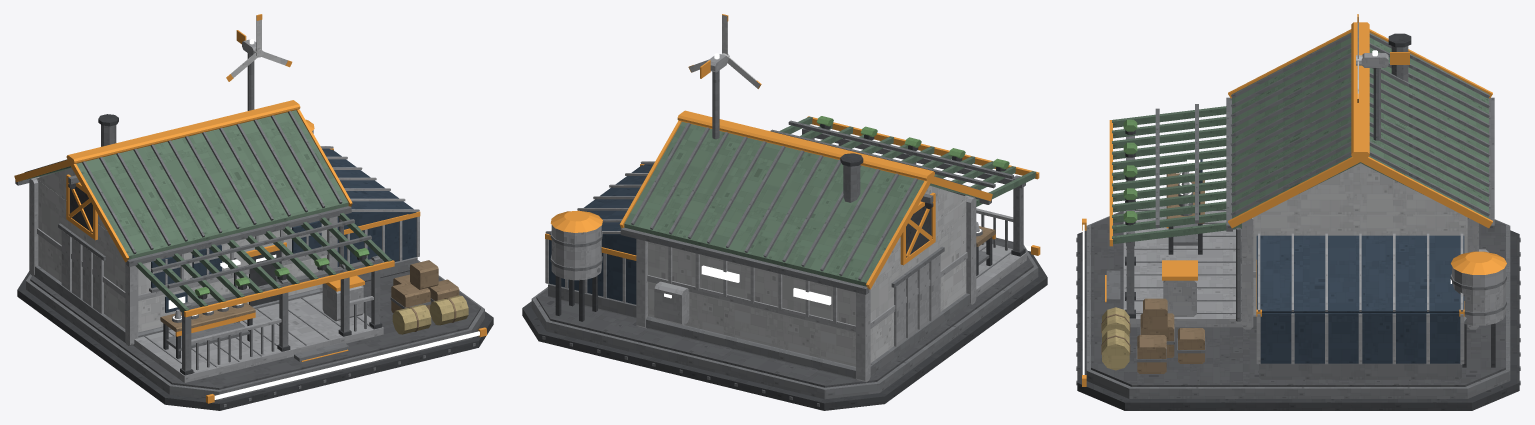
Rendered from farmhouse_lod0.glb.
3 views of the same model, side by side, from view 1: azimuth 30°, elevation 25°; view 2: azimuth 150°, elevation 25°; view 3: azimuth 270°, elevation 25° (orthographic). The views are drawn at different scales.
Visible parts, largest first — view 1: farmhouse_base_body, farmhouse_base_trim, farmhouse_bench_body, farmhouse_inlay_glow, farmhouse_rotor_body; view 2: farmhouse_base_body, farmhouse_base_trim, farmhouse_base_glow, farmhouse_bench_body, farmhouse_rotor_body; view 3: farmhouse_base_body, farmhouse_base_trim, farmhouse_bench_body, farmhouse_inlay_glow.
Part boxes in pixels (x1,y1,x2,y2): farmhouse_base_body: (15, 39, 493, 410); farmhouse_base_trim: (14, 30, 486, 403); farmhouse_bench_body: (160, 258, 255, 358); farmhouse_inlay_glow: (214, 331, 479, 399); farmhouse_rotor_body: (231, 20, 287, 77); farmhouse_base_body: (522, 54, 1047, 410); farmhouse_base_trim: (545, 60, 1040, 289); farmhouse_base_glow: (664, 53, 1003, 305); farmhouse_bench_body: (976, 221, 995, 275); farmhouse_rotor_body: (689, 15, 760, 88); farmhouse_base_body: (1076, 33, 1520, 410); farmhouse_base_trim: (1082, 22, 1506, 386); farmhouse_bench_body: (1166, 159, 1204, 254); farmhouse_inlay_glow: (1082, 224, 1084, 374).
Size of the model in its own units: 3.96 by 3.11 by 3.94.
Materials: 3 (1 with a texture image).
